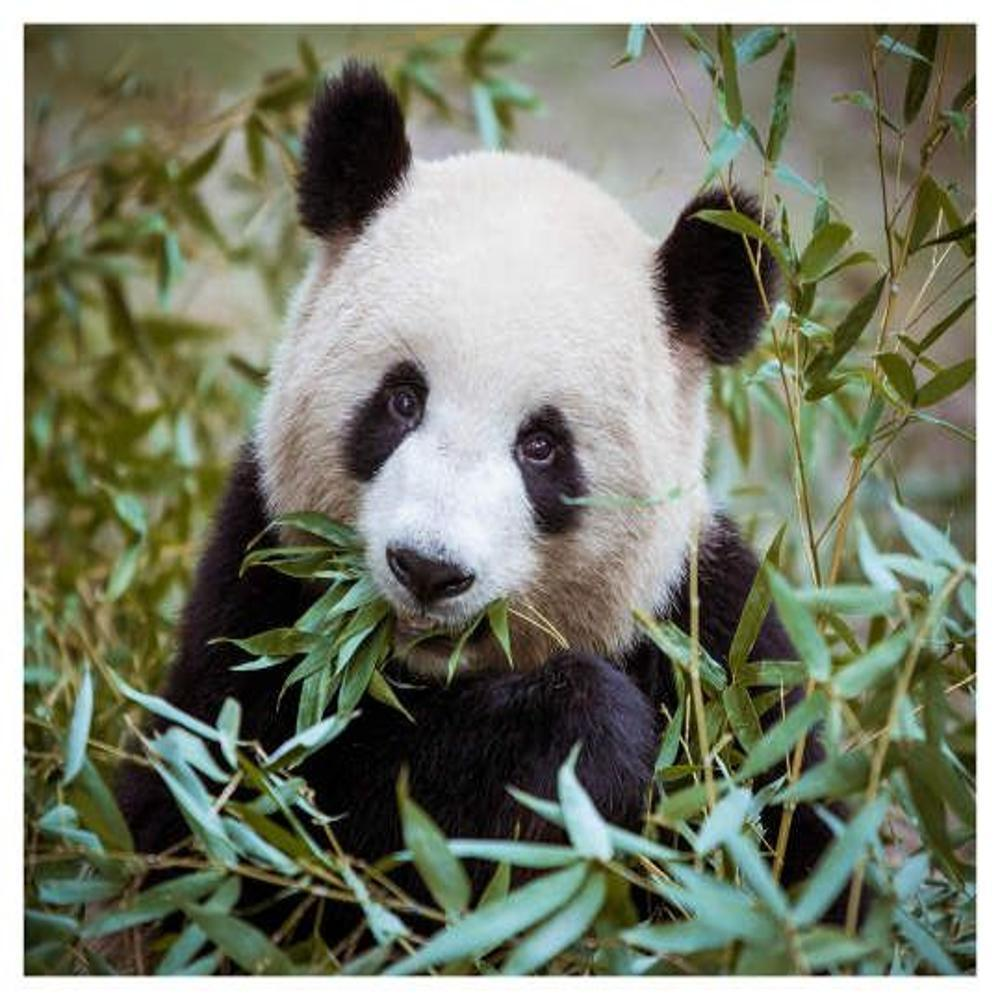panda: (234, 56, 826, 823)
